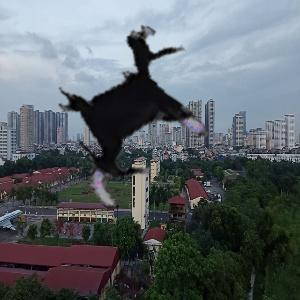drone: (39, 21, 237, 219)
